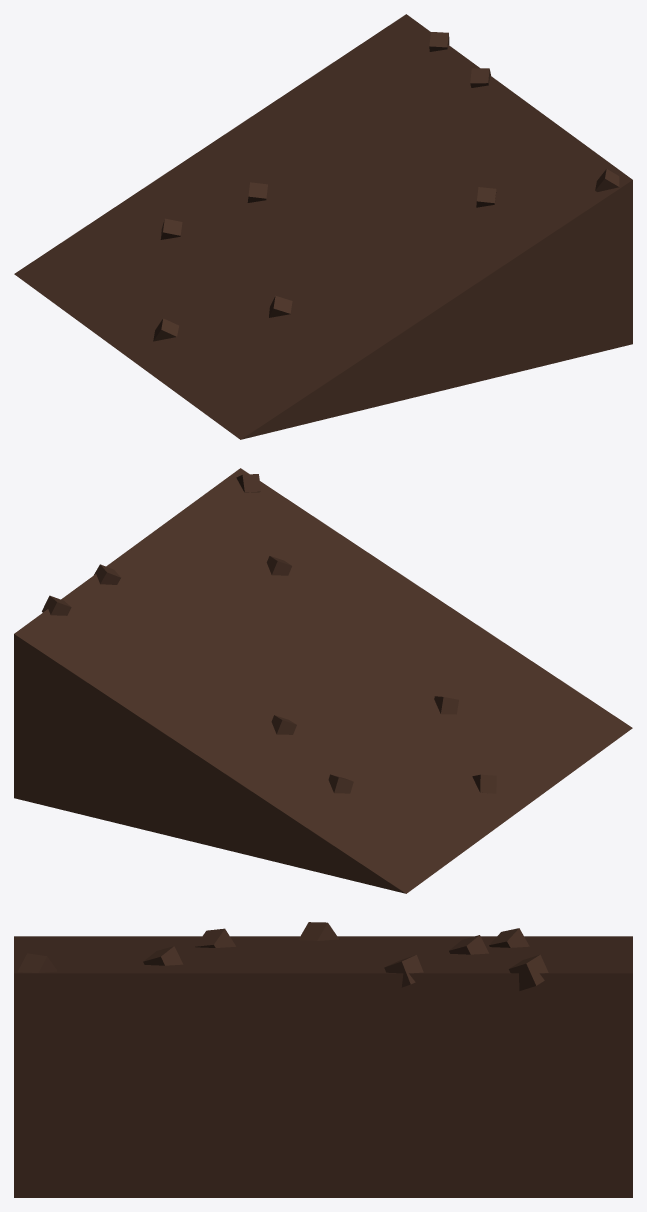
The model's file is BlockGroundAngle.glb.
3 renders of one model, top to bottom at view 1: azimuth 30°, elevation 25°; view 2: azimuth 150°, elevation 25°; view 3: azimuth 270°, elevation 25°, orthographic. The views are drawn at different scales.
Parts seen in each view (by area): view 1: Block Ground Angle 1; view 2: Block Ground Angle 1; view 3: Block Ground Angle 1.
Part boxes in pixels (x1,y1,x2,y2): Block Ground Angle 1: (14, 14, 632, 439); Block Ground Angle 1: (14, 468, 632, 893); Block Ground Angle 1: (14, 922, 632, 1197).
Bounding box in the file's own units: 1.02 × 0.4226 × 1.
